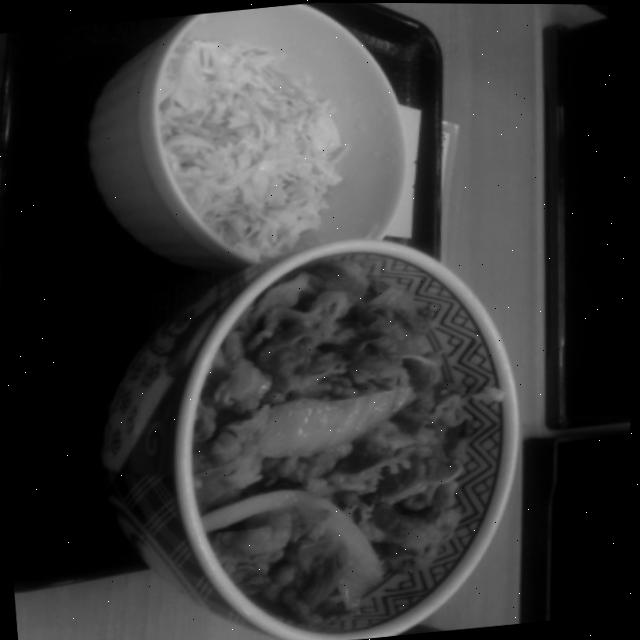蔬菜料理: (138, 1, 414, 275)
